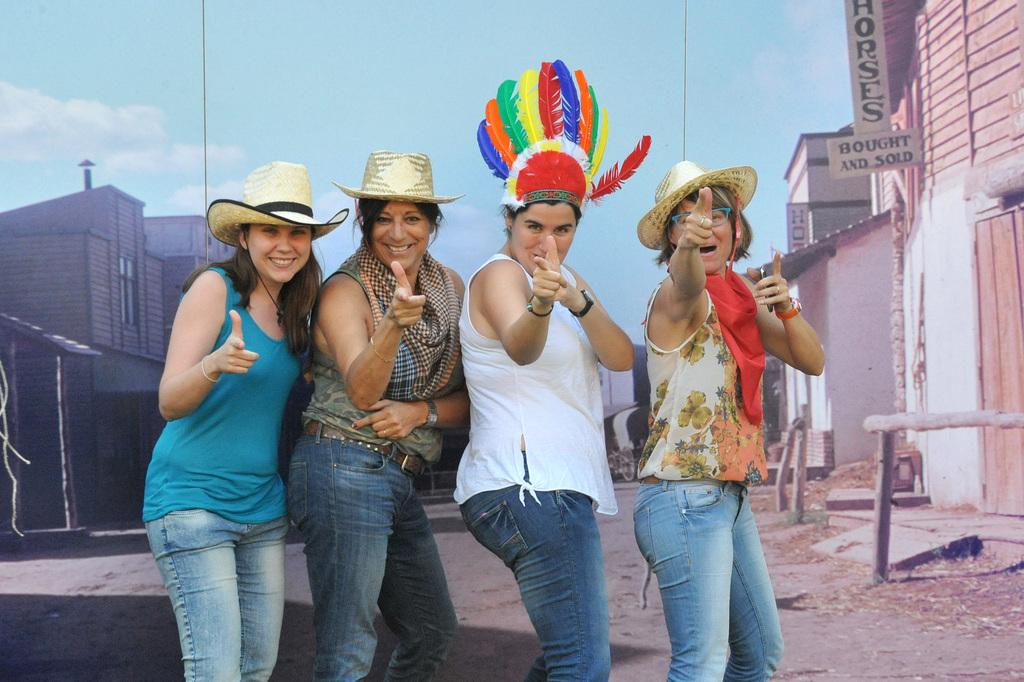Hat: (205, 162, 345, 248), (637, 154, 757, 251), (336, 152, 468, 200)
